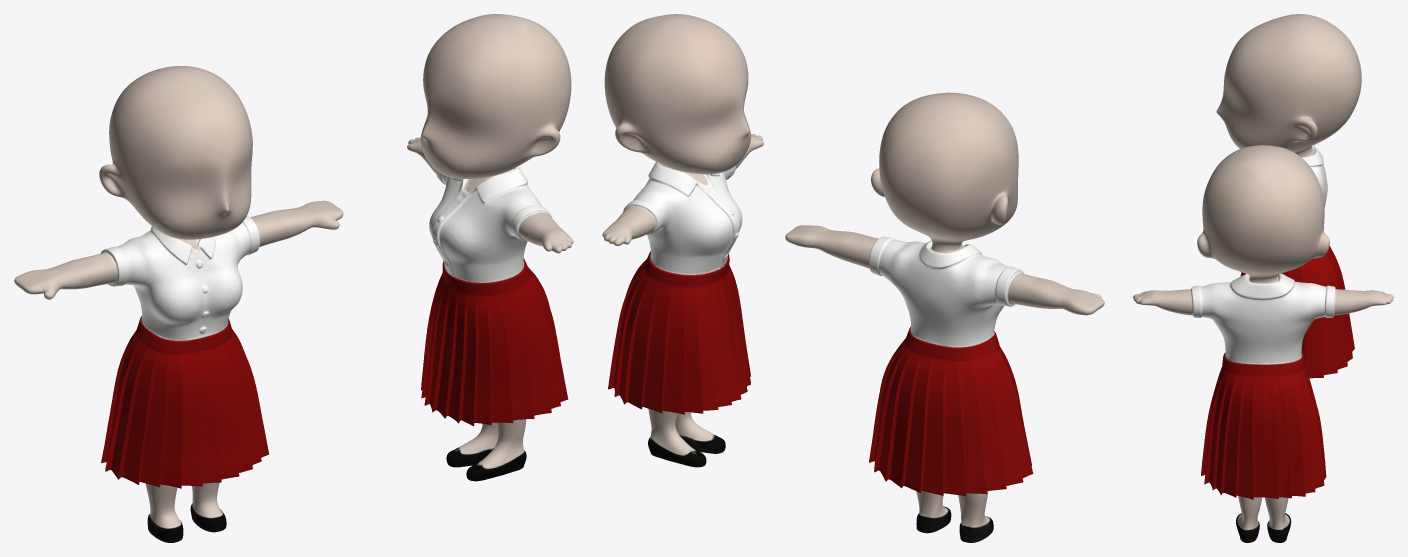
The model's file is baked_outfit_blouse.glb.
3 renders of one model, left to right at view 1: azimuth 30°, elevation 25°; view 2: azimuth 150°, elevation 25°; view 3: azimuth 270°, elevation 25°, orthographic. The views are drawn at different scales.
Size of the model in its own units: 1.9 by 1.57 by 0.948.
1 material, 1 textured.
